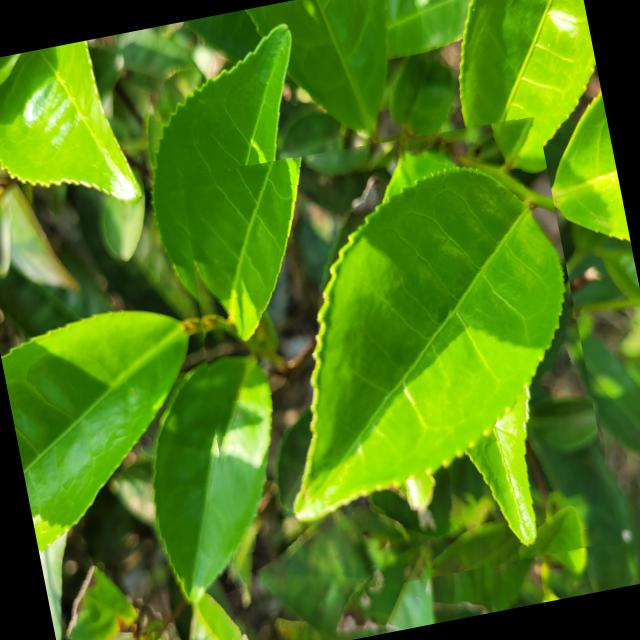Category B(2-4 days): (156, 107, 620, 614)
